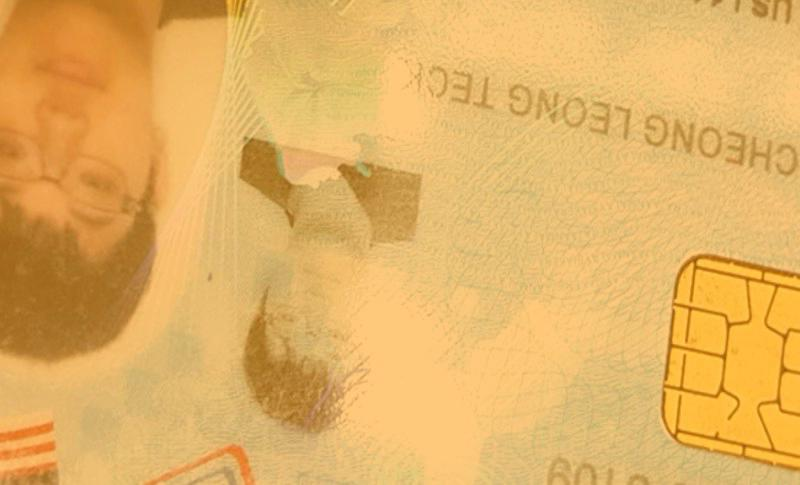hologramB: (246, 4, 390, 148)
